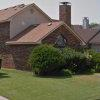Chimney: (55, 0, 73, 30)
